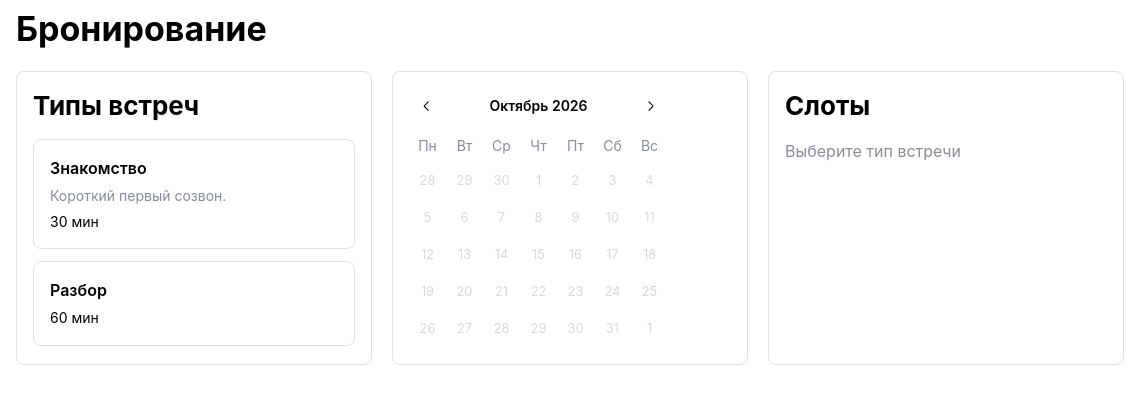
Test: booking page › keeps only working days of the window active and marks today
Click the button "Знакомство Короткий первый созвон. 30 мин": (194, 194) [33,139,355,250]
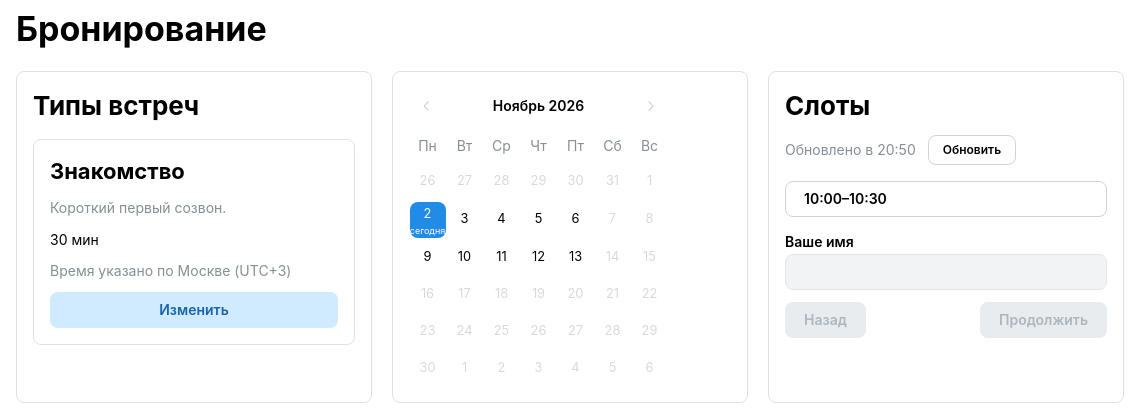
Expected: the button named "7 ноября 2026" is disabled, [594,201,630,237]
Result: the button "10:00–10:30" is shown at [785,181,1107,217]
Result: the text "сегодня" is shown at [410,226,445,235]
